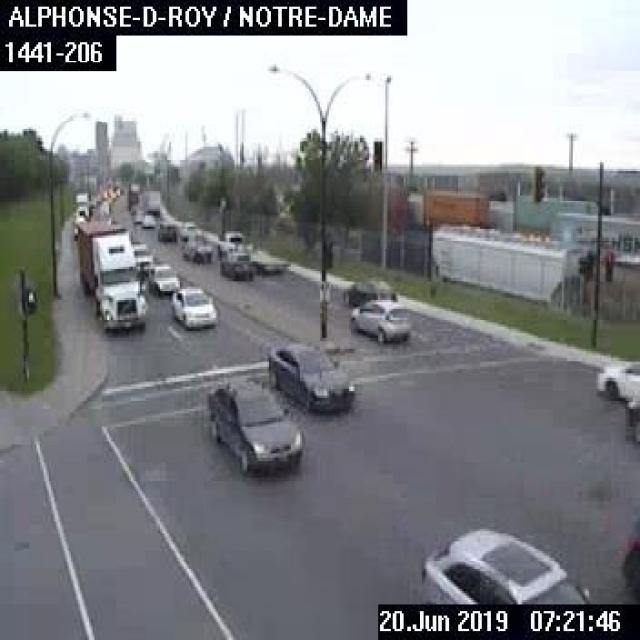vehicle: (418, 524, 589, 600), (202, 376, 304, 476), (72, 220, 147, 331), (264, 340, 352, 416), (216, 229, 290, 273), (348, 298, 411, 340), (591, 356, 638, 402), (170, 283, 216, 328), (342, 272, 398, 304), (147, 262, 179, 291), (220, 256, 254, 279), (180, 236, 211, 261), (131, 241, 152, 271), (73, 190, 91, 217), (178, 222, 202, 238), (156, 221, 176, 240), (72, 215, 84, 237), (141, 212, 153, 225)
